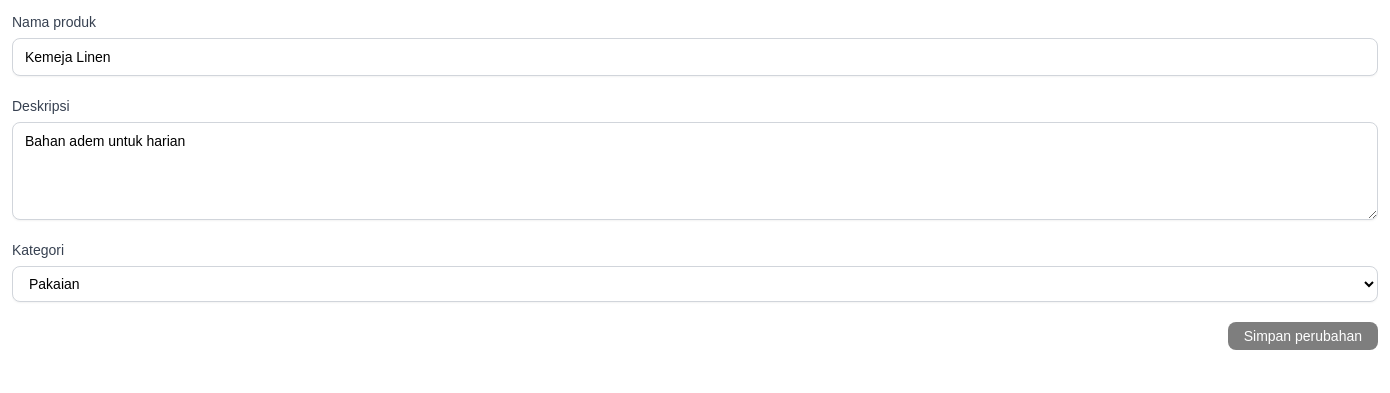
Test case: ProductEditForm › Validasi Client-Side (Zod) › menampilkan error jika nama produk dikosongkan
Clear the field labelled "Nama produk": (695, 57) [12,38,1378,76]
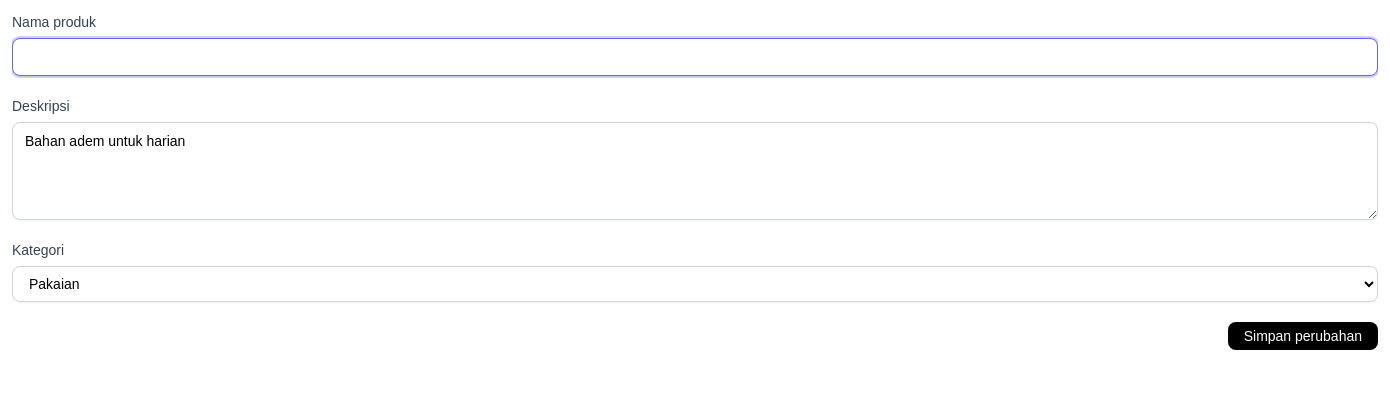
Click the button "Simpan perubahan": (1303, 336) [1228,322,1378,350]
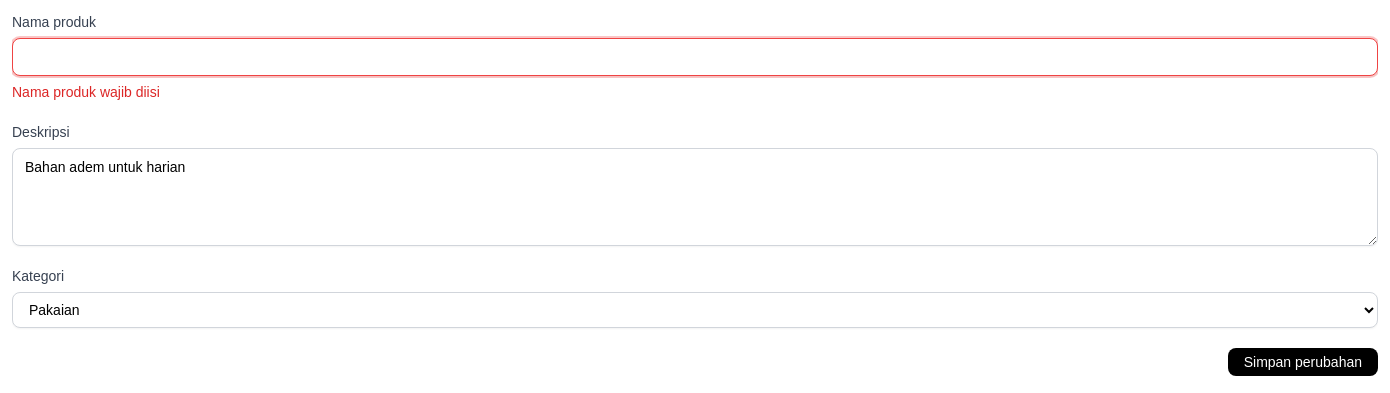
Result: the text "Nama produk wajib diisi" is shown at [12,84,160,100]
